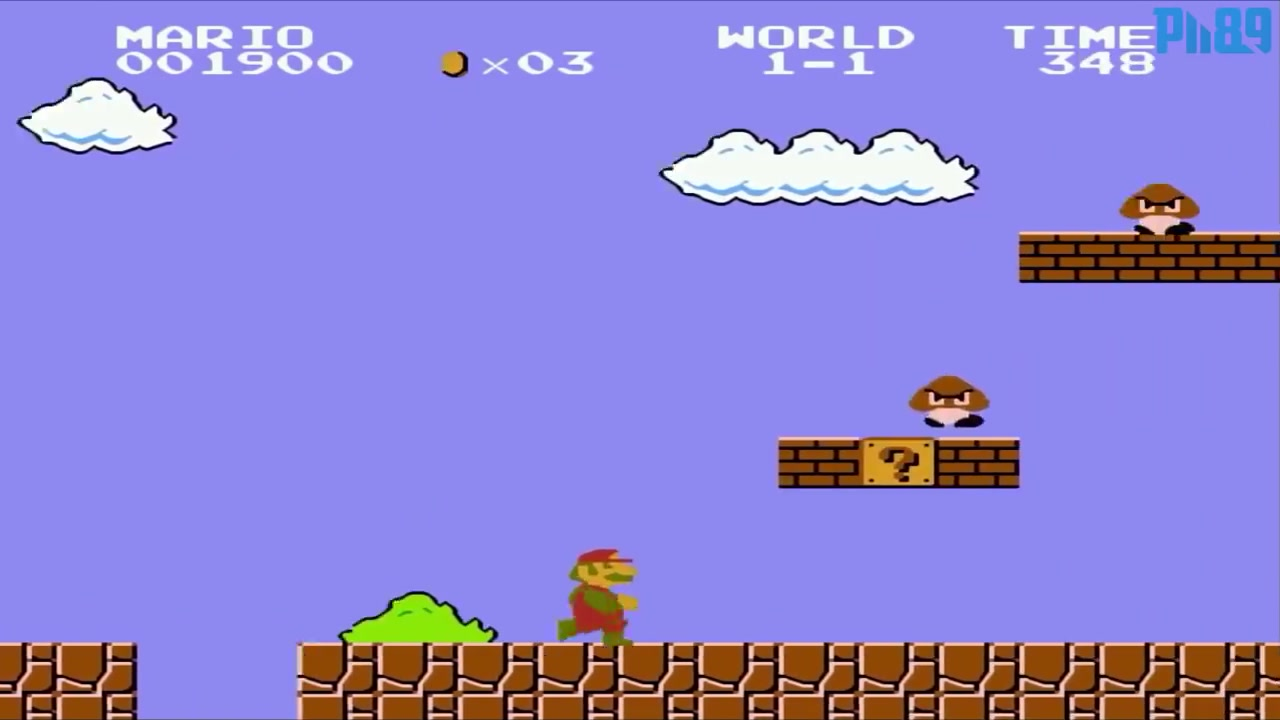mario: (548, 537, 643, 649)
